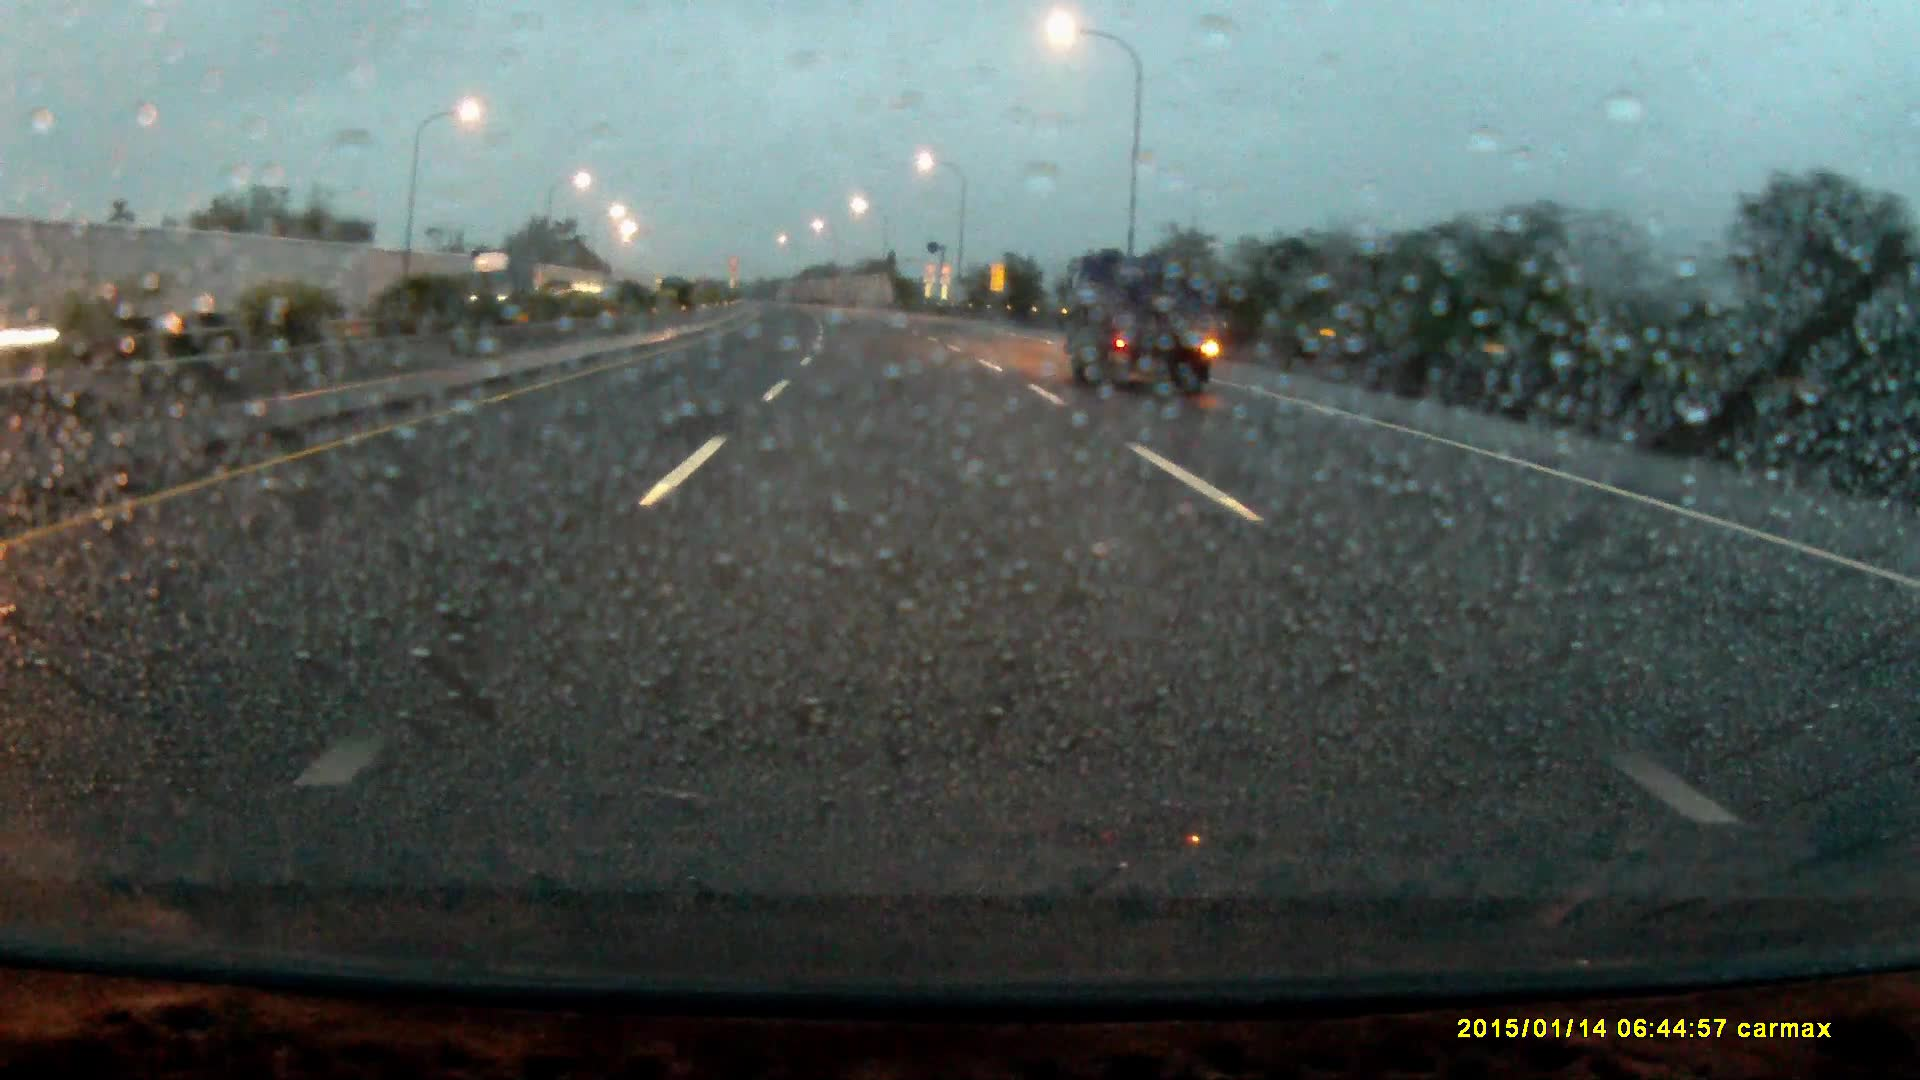vehicle: (1063, 251, 1213, 401), (464, 249, 539, 327)
